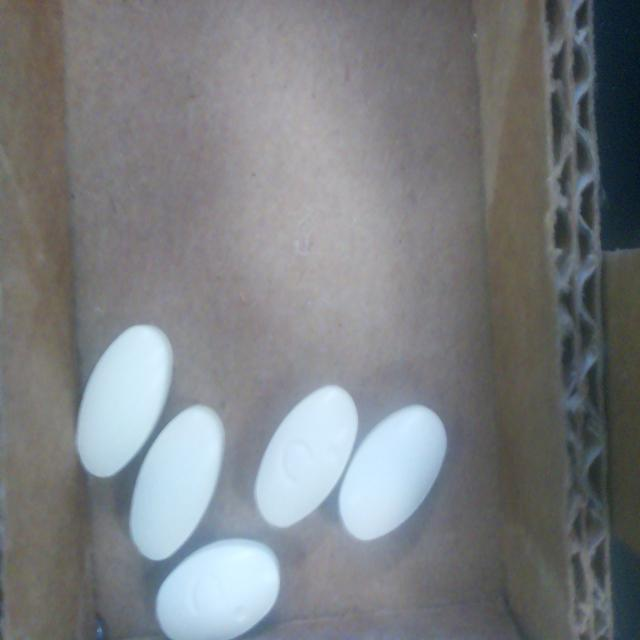pill: (254, 385, 358, 528), (76, 325, 173, 477), (130, 405, 224, 560), (339, 405, 446, 540), (156, 538, 280, 640)
